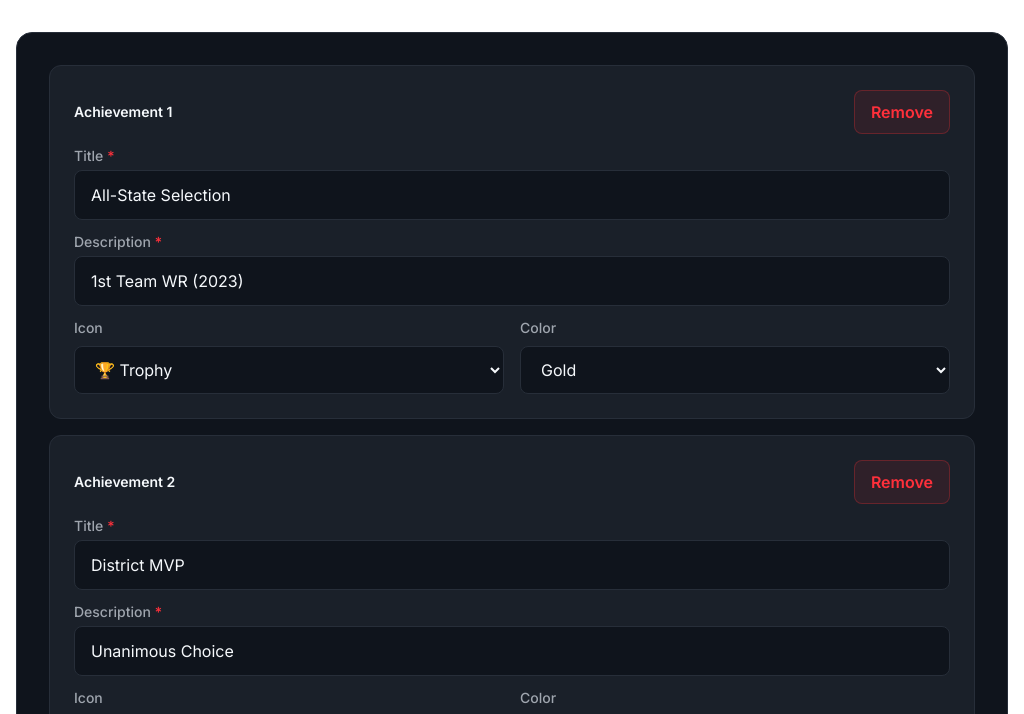
Scenario: AthleticAchievementsSection - Inline Editing › Save Functionality › shows validation errors when required fields are empty
The width and height of the screenshot is (1024, 714).
Clear the 1st field labelled "Title*" at (512, 195), box [74,170,950,220]
(page scrolled)
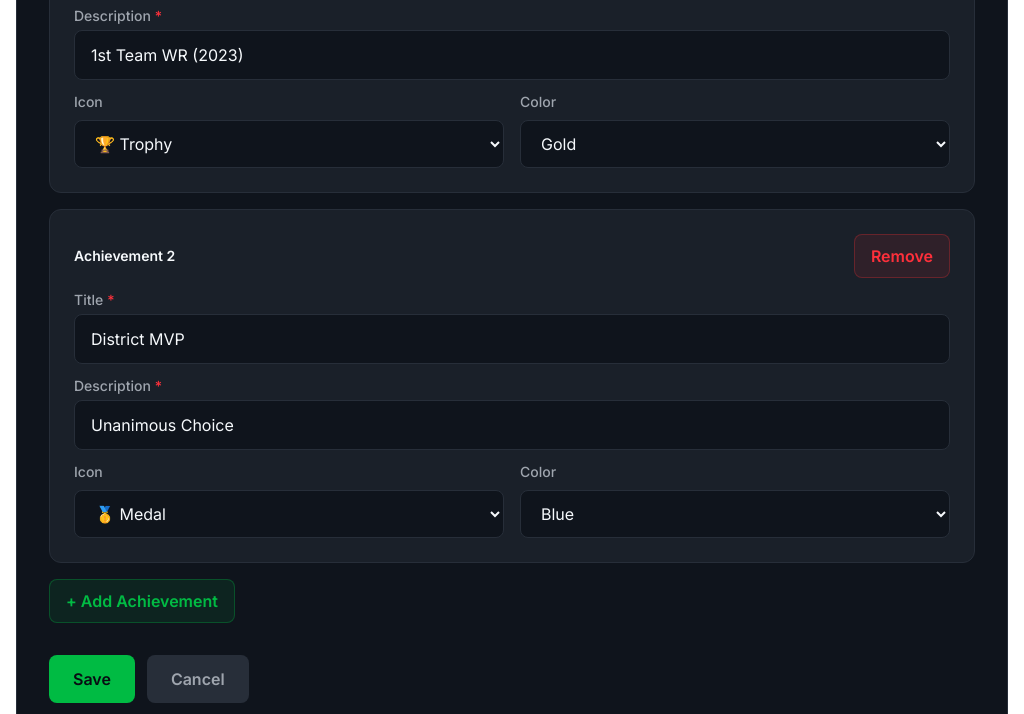
Click the button "Save".
click(92, 679)  # box [49,655,135,703]
(page scrolled)
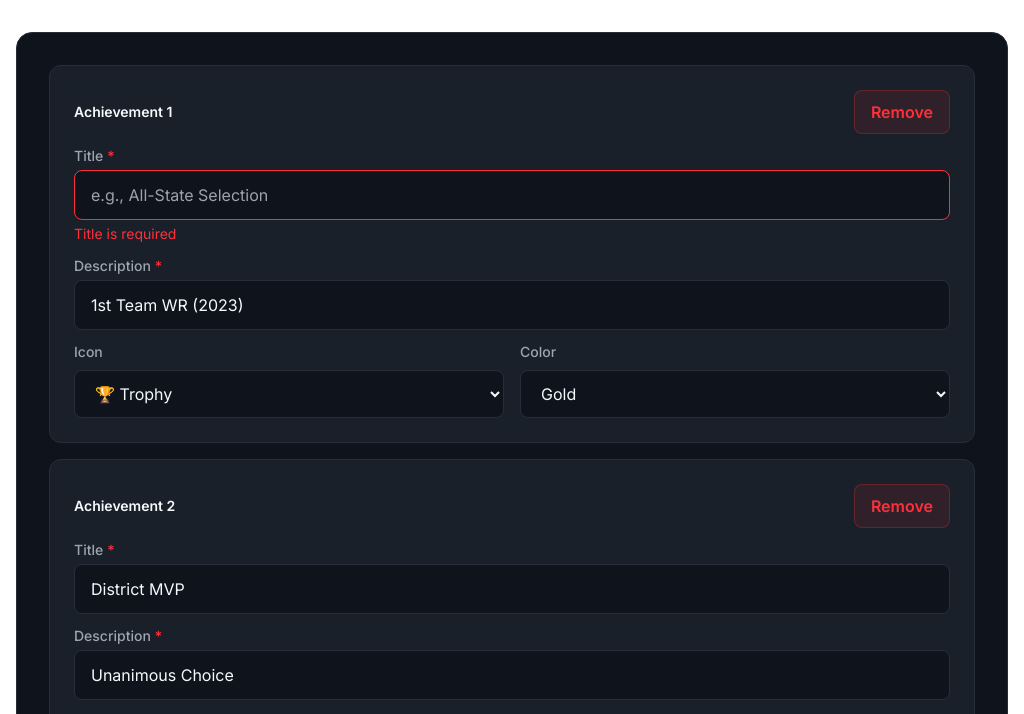
expect the text "Title is required" is shown: met, box [74,225,176,242]
